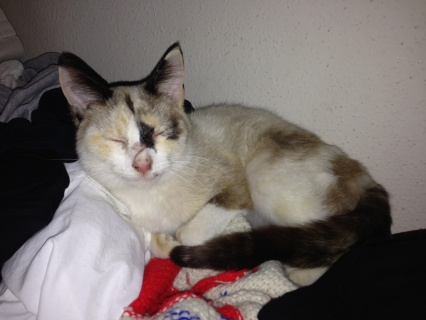Cat: (57, 39, 396, 287)
